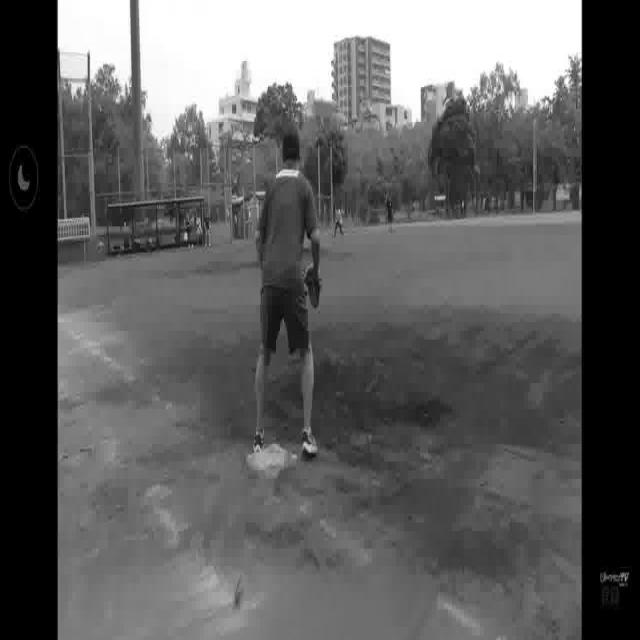base: (245, 443, 297, 483)
baseball_glove: (305, 259, 325, 314)
shoe: (302, 431, 320, 457), (254, 428, 266, 455)
